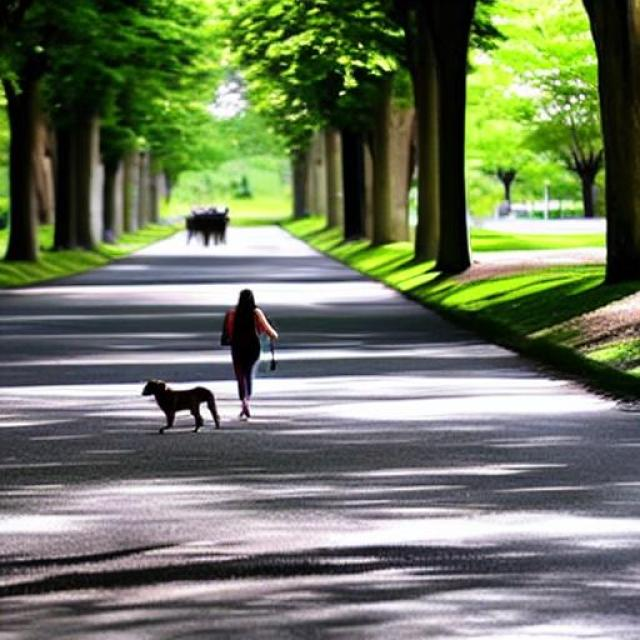Unleashed_Dog: (140, 342, 260, 437)
